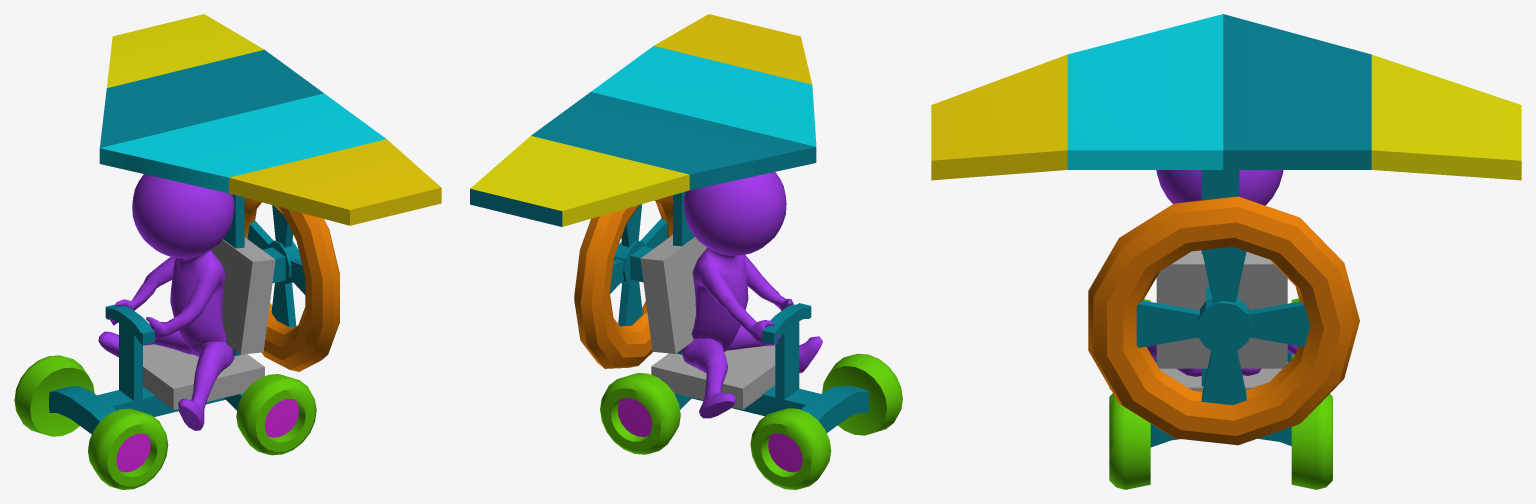
File: glider.fbx
3 views of the same model, side by side, from view 1: azimuth 30°, elevation 25°; view 2: azimuth 150°, elevation 25°; view 3: azimuth 270°, elevation 25° (orthographic). The views are drawn at different scales.
Parts seen in each view (by area): view 1: polySurface2381; view 2: polySurface2381; view 3: polySurface2381.
Part boxes in pixels (box(x1,y1,x2,y2)): polySurface2381: box(14, 14, 441, 489); polySurface2381: box(470, 14, 902, 489); polySurface2381: box(931, 14, 1521, 489).
Size of the model in its own units: 181 by 199 by 275.
